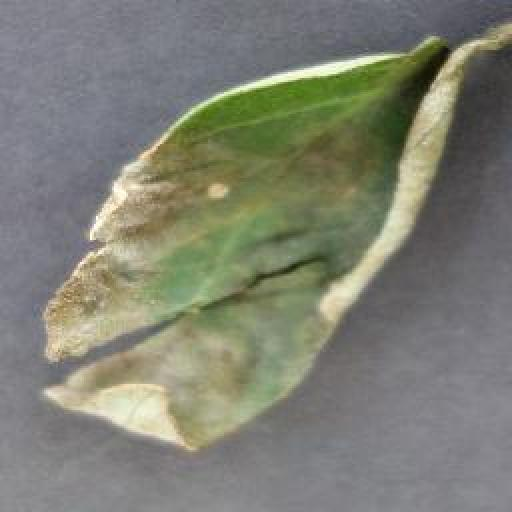disease_tomato: (44, 12, 512, 453)
